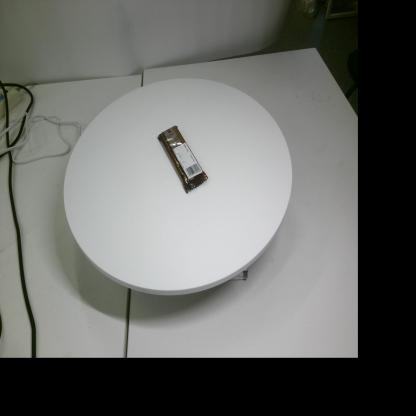Chocolate: (158, 126, 208, 194)
